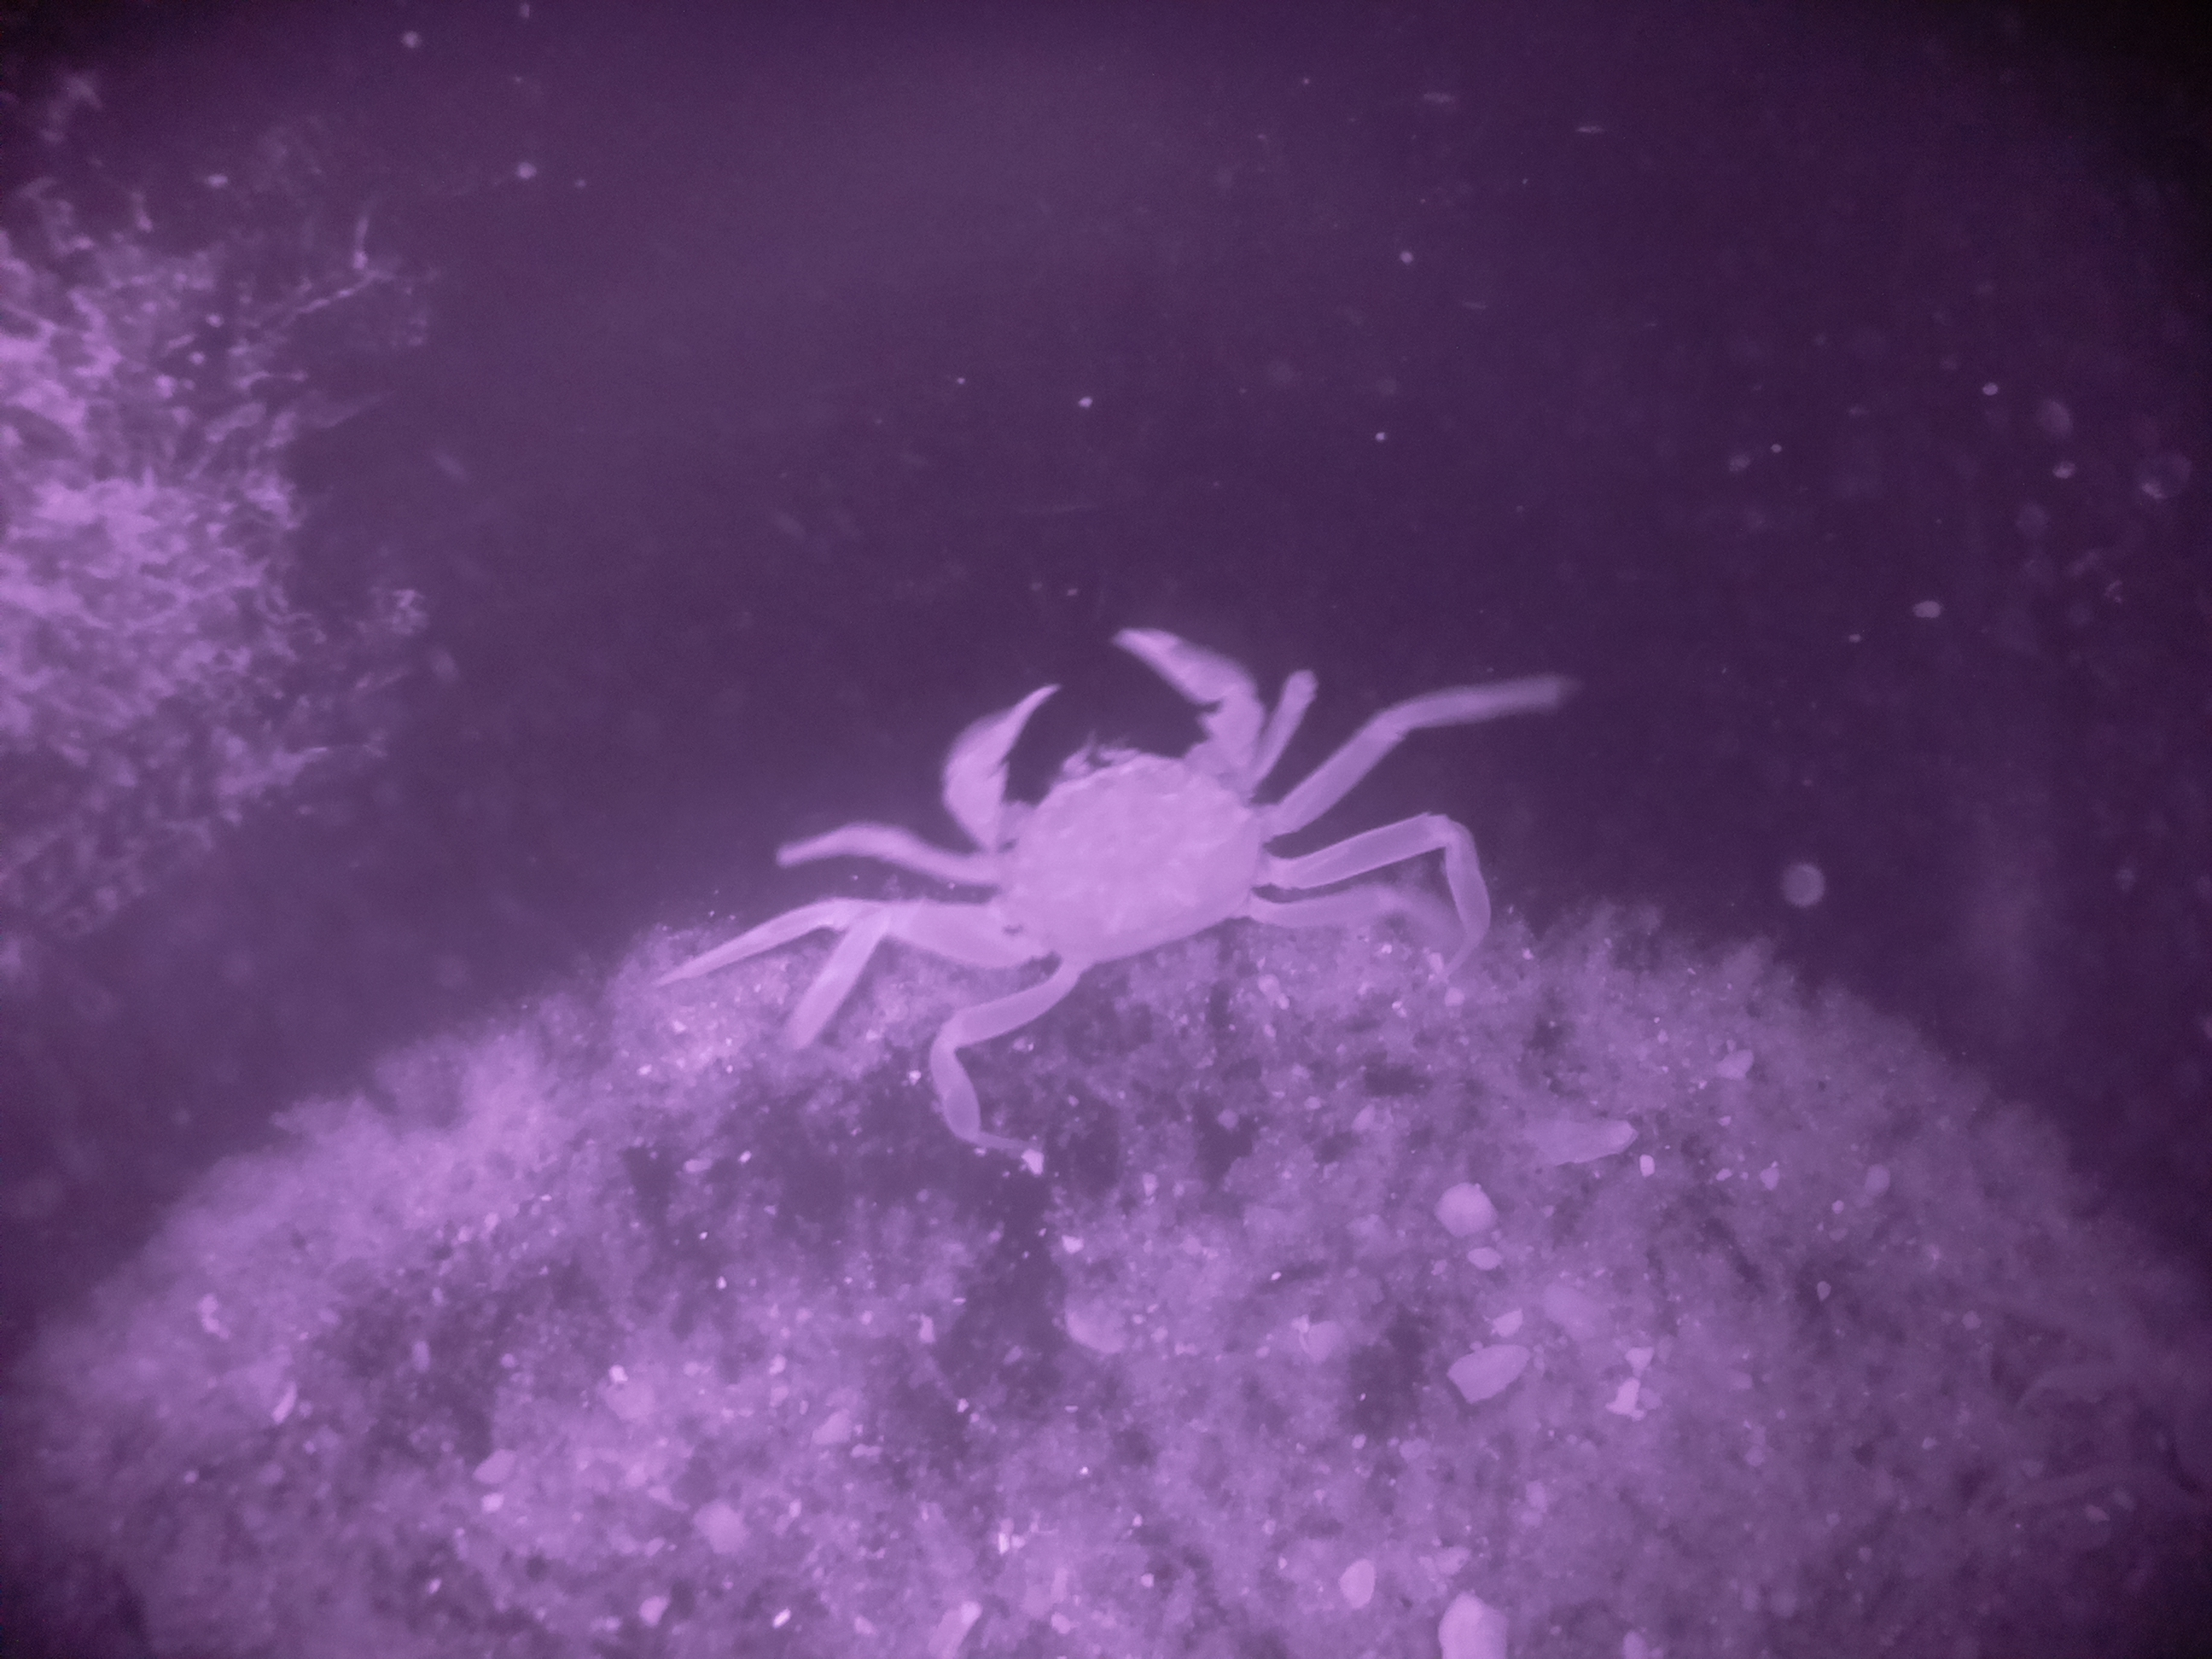Crab: (822, 584, 1366, 1079)
